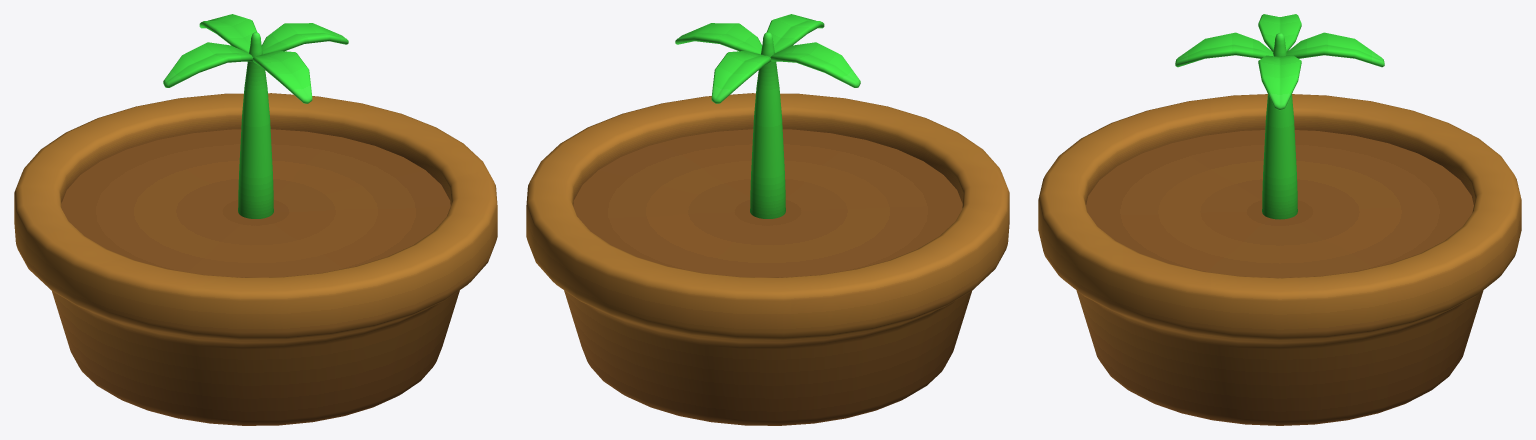
File: Plant_1.fbx
The picture shows the model from 3 angles, left to right: view 1: azimuth 30°, elevation 25°; view 2: azimuth 150°, elevation 25°; view 3: azimuth 270°, elevation 25°; orthographic projection.
Parts seen in each view (by area): view 1: Plant; view 2: Plant; view 3: Plant.
Boxes of the visible parts, box(x1,y1,x2,y2) form: Plant: box(14, 14, 497, 425); Plant: box(526, 14, 1009, 425); Plant: box(1038, 14, 1521, 425).
Size of the model in its own units: 0.8 by 0.8 by 0.5828.
